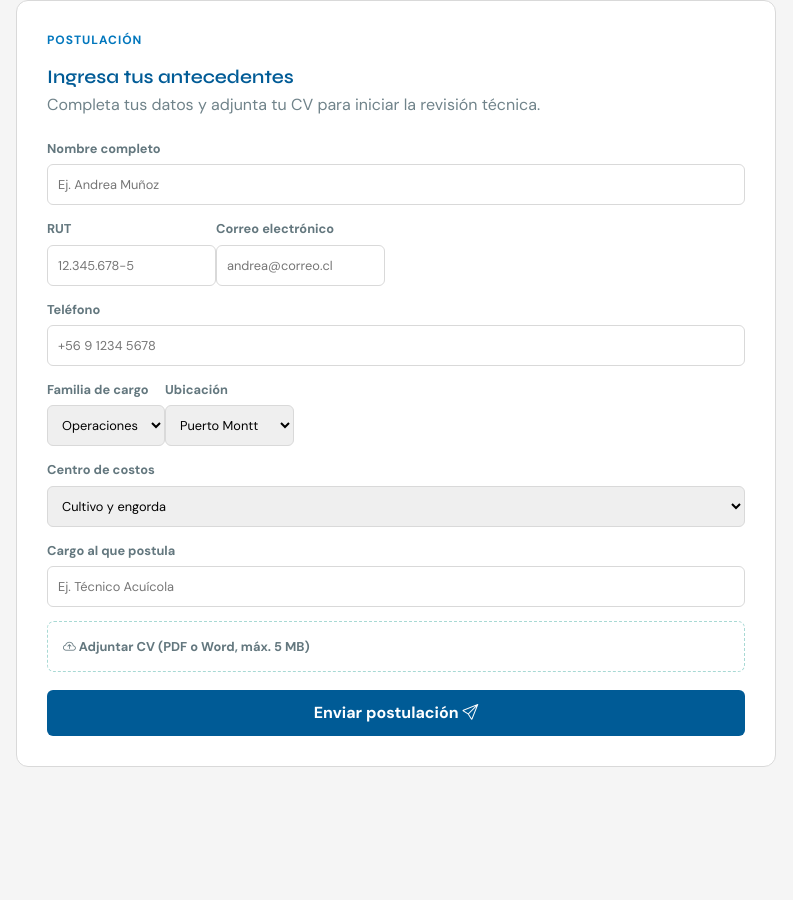
FormularioPostulacion › muestra errores y no envía si el formulario está vacío
Click the button "Enviar postulación" at (396, 713), box [47, 690, 745, 736]
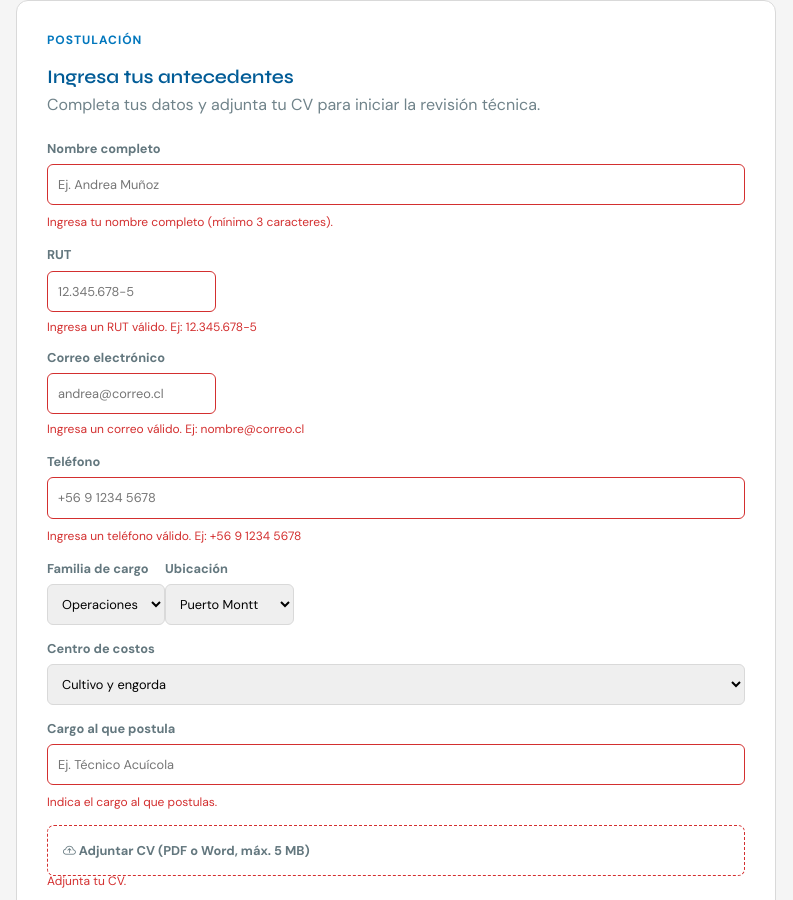
Expected: the text "Ingresa tu nombre completo (mínimo 3 caracteres)." is shown, [47, 214, 333, 230]
Expected: the text "Ingresa un RUT válido. Ej: 12.345.678-5" is shown, [47, 319, 257, 335]
Expected: the text "Adjunta tu CV." is shown, [47, 874, 126, 890]
